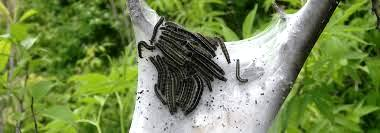Caterpillar: (191, 57, 229, 82), (192, 35, 216, 69), (160, 35, 194, 58), (154, 42, 184, 67), (189, 66, 215, 93), (172, 32, 189, 68), (165, 72, 179, 115), (193, 33, 215, 56), (149, 56, 163, 92), (149, 15, 166, 44), (218, 33, 233, 64), (165, 19, 193, 35), (155, 54, 166, 94), (235, 56, 249, 86), (194, 73, 204, 113), (137, 38, 156, 59), (179, 78, 191, 107), (154, 85, 165, 106)
